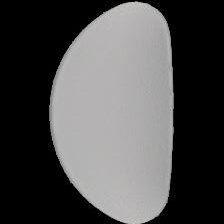0173-0561: (0, 0, 224, 224)
